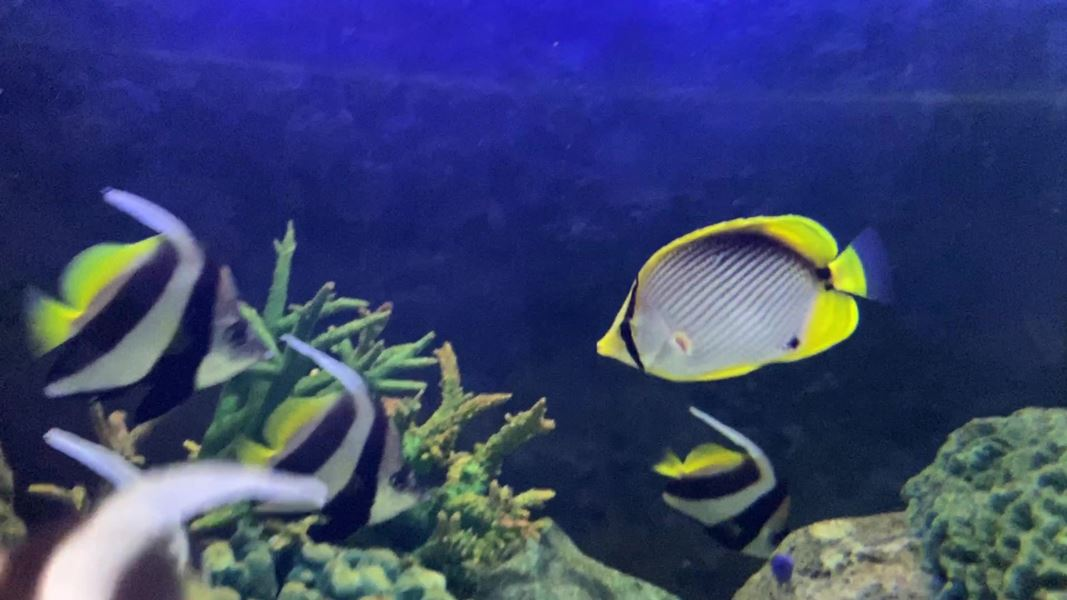Black-backed butterflyfish: (586, 199, 913, 396)
